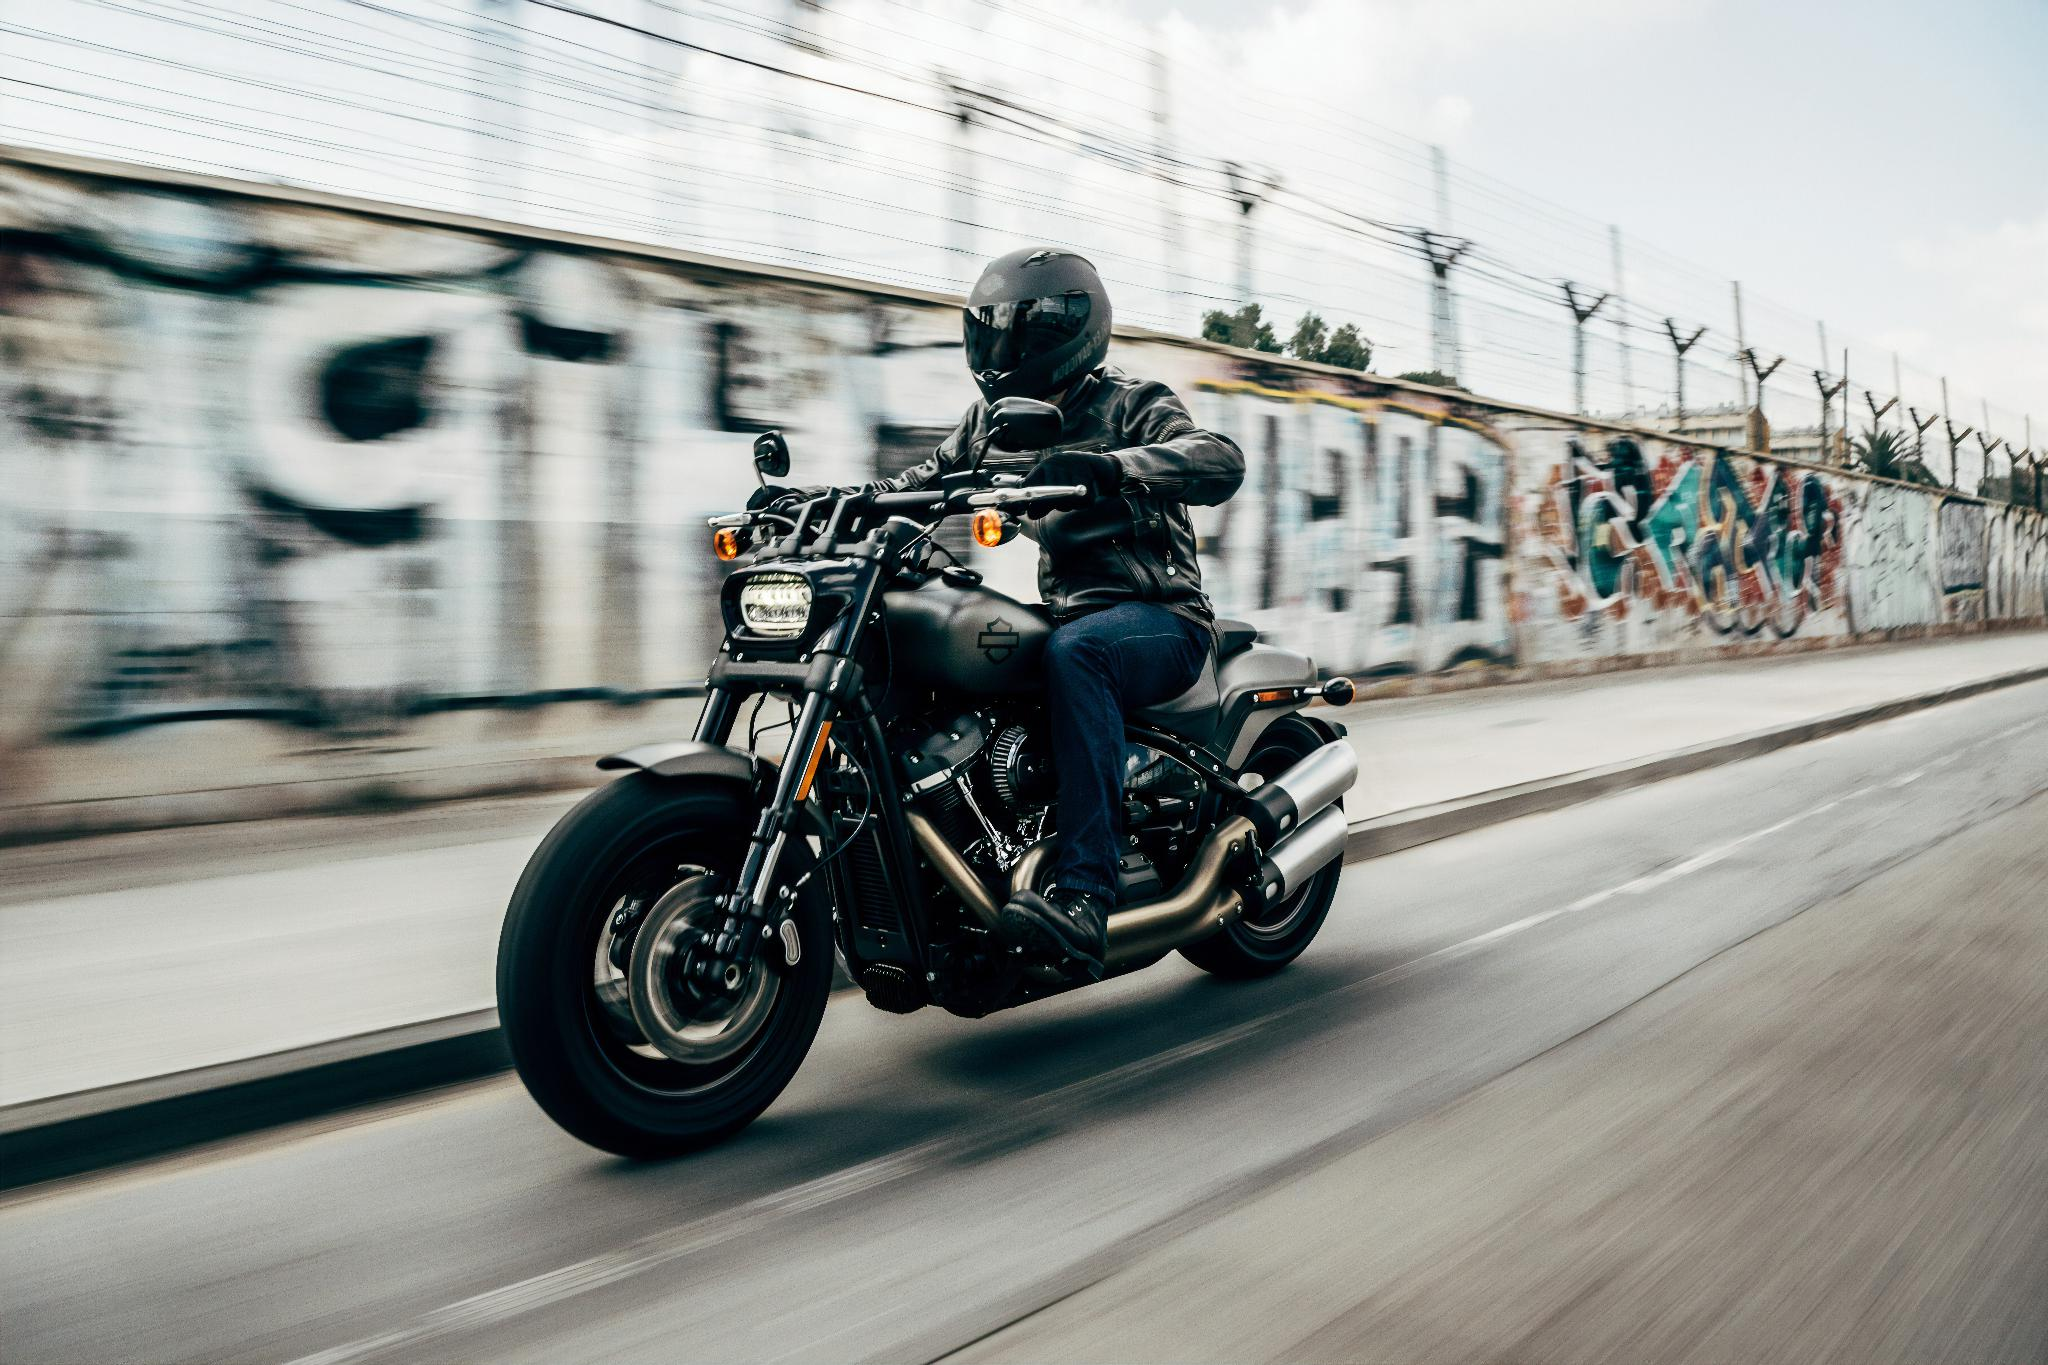motorcycle: (408, 288, 1428, 1251)
